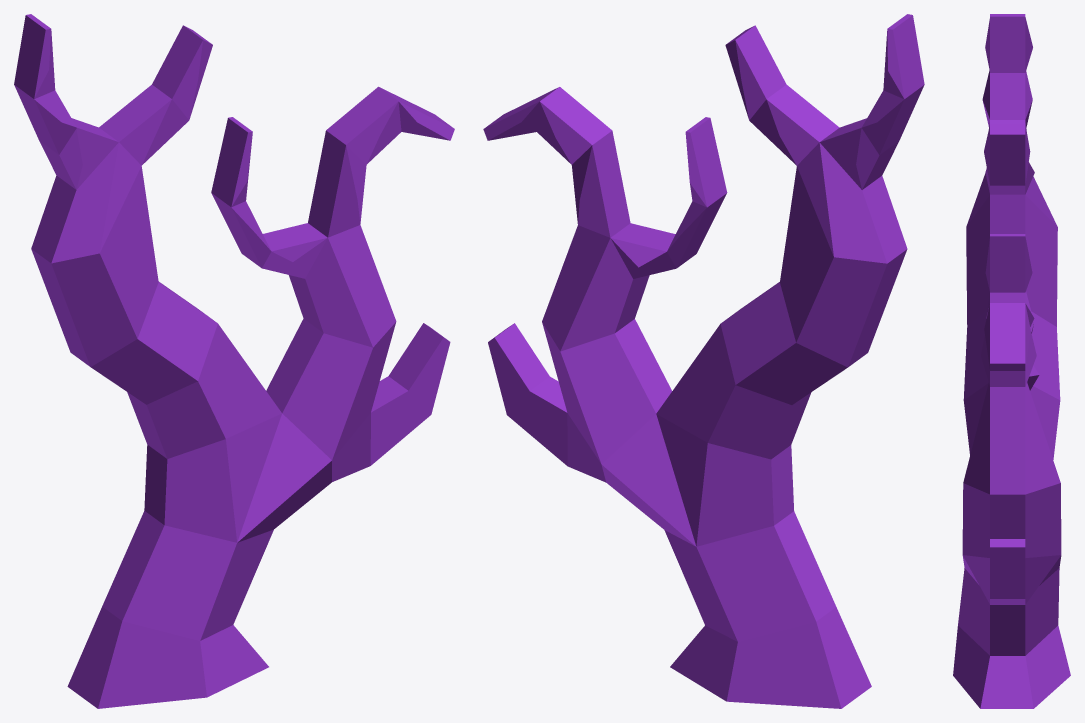
Rendered from coral 2.fbx.
3 renders of one model, left to right at view 1: azimuth 30°, elevation 25°; view 2: azimuth 150°, elevation 25°; view 3: azimuth 270°, elevation 25°, orthographic. The views are drawn at different scales.
Visible parts, largest first — view 1: Plane007; view 2: Plane007; view 3: Plane007.
Part boxes in pixels (x1,y1,x2,y2): Plane007: [14, 14, 454, 708]; Plane007: [483, 14, 924, 708]; Plane007: [953, 14, 1070, 708].
Size of the model in its own units: 4.43 by 6.9 by 1.23.
1 material, 1 textured.
